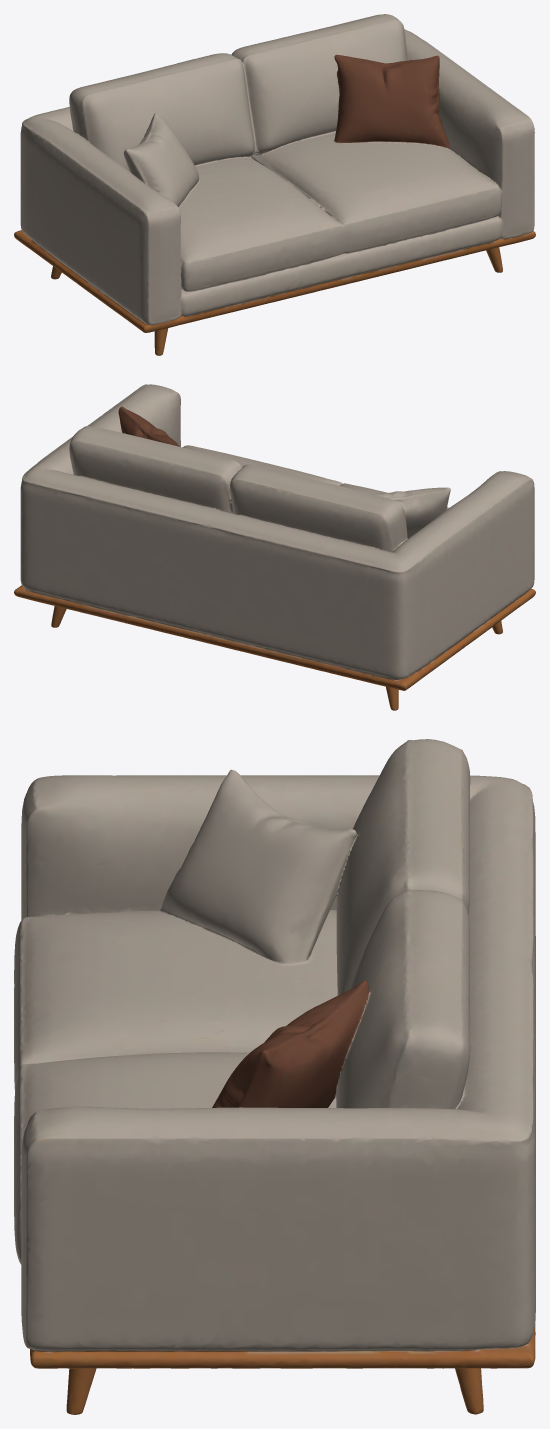
File: sofa.glb
3 views of the same model, one above another, from view 1: azimuth 30°, elevation 25°; view 2: azimuth 150°, elevation 25°; view 3: azimuth 270°, elevation 25° (orthographic). The views are drawn at different scales.
Visible parts, largest first — view 1: world; view 2: world; view 3: world.
Part boxes in pixels (box(x1,y1,x2,y2)): world: box(14, 14, 535, 355); world: box(14, 384, 535, 710); world: box(14, 739, 535, 1414).
Bounding box in the file's own units: 1 × 0.4736 × 0.6024.
1 material, 1 textured.
